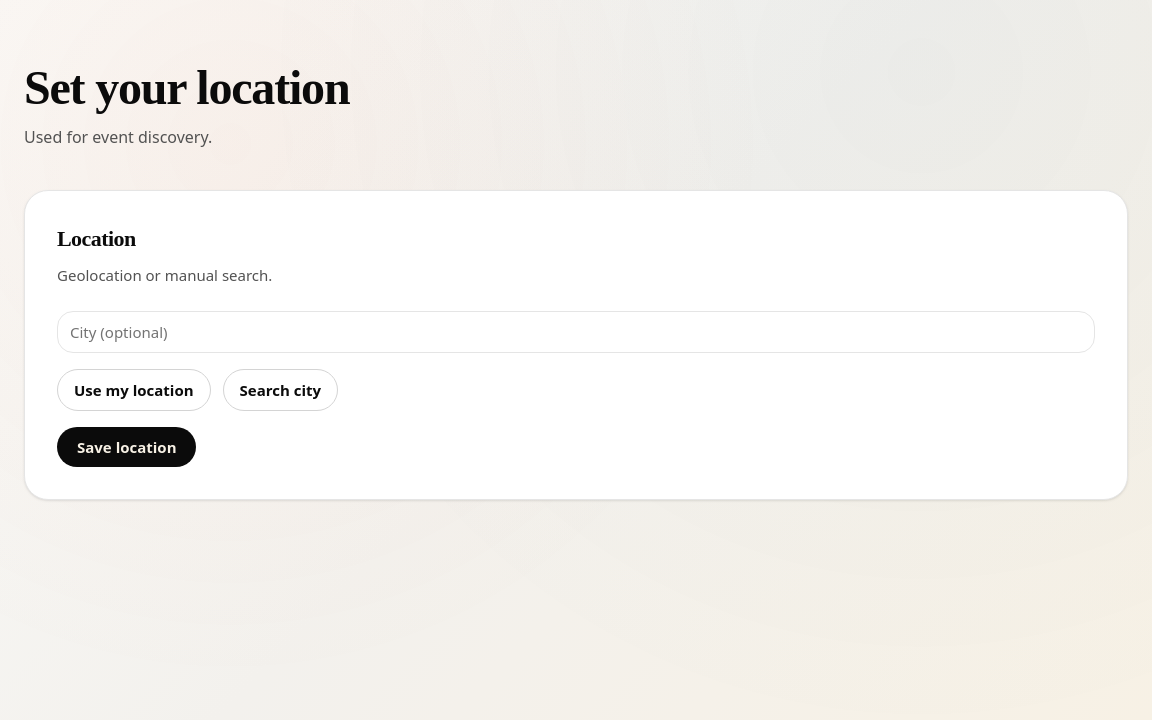
Test case: LocationOnboardingPage — geolocation and search branches › searches a typed city and rejects an empty search
The width and height of the screenshot is (1152, 720).
Click the button "Search city" at [280, 390], box left=223, top=369, right=338, bottom=411
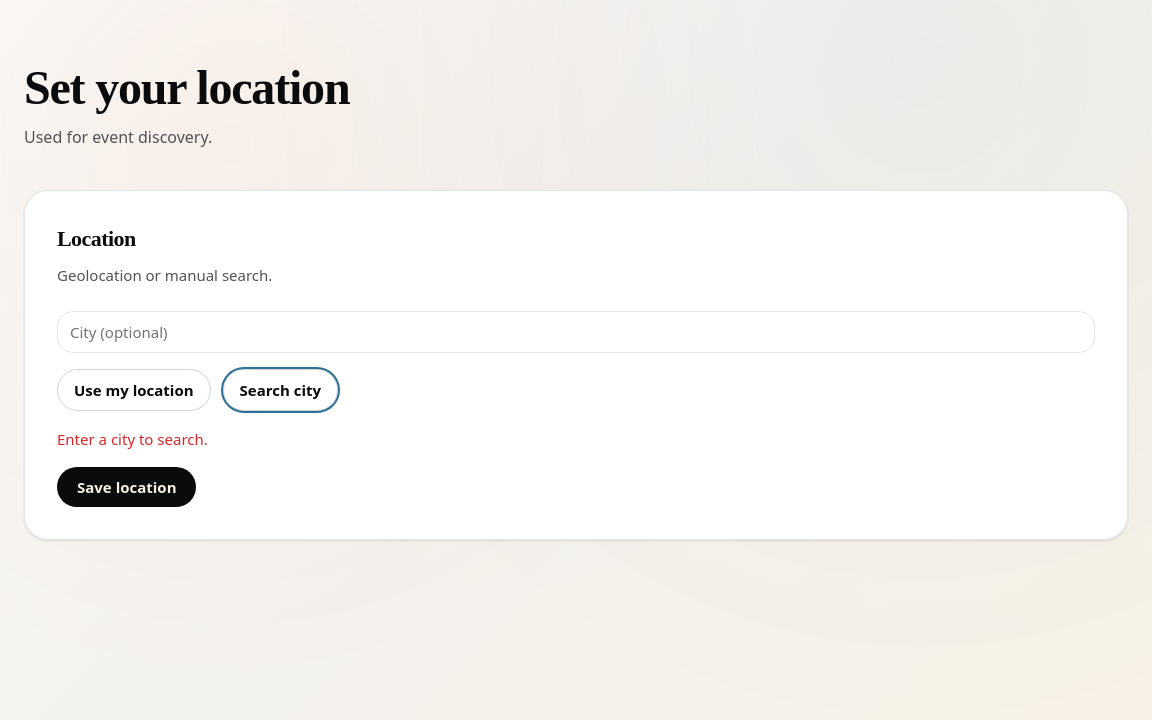
Expected: the text "Enter a city to search." is shown, left=57, top=429, right=208, bottom=449
Type "Pune" into the field with placeholder "City (optional)" at [576, 332], box left=57, top=311, right=1095, bottom=353
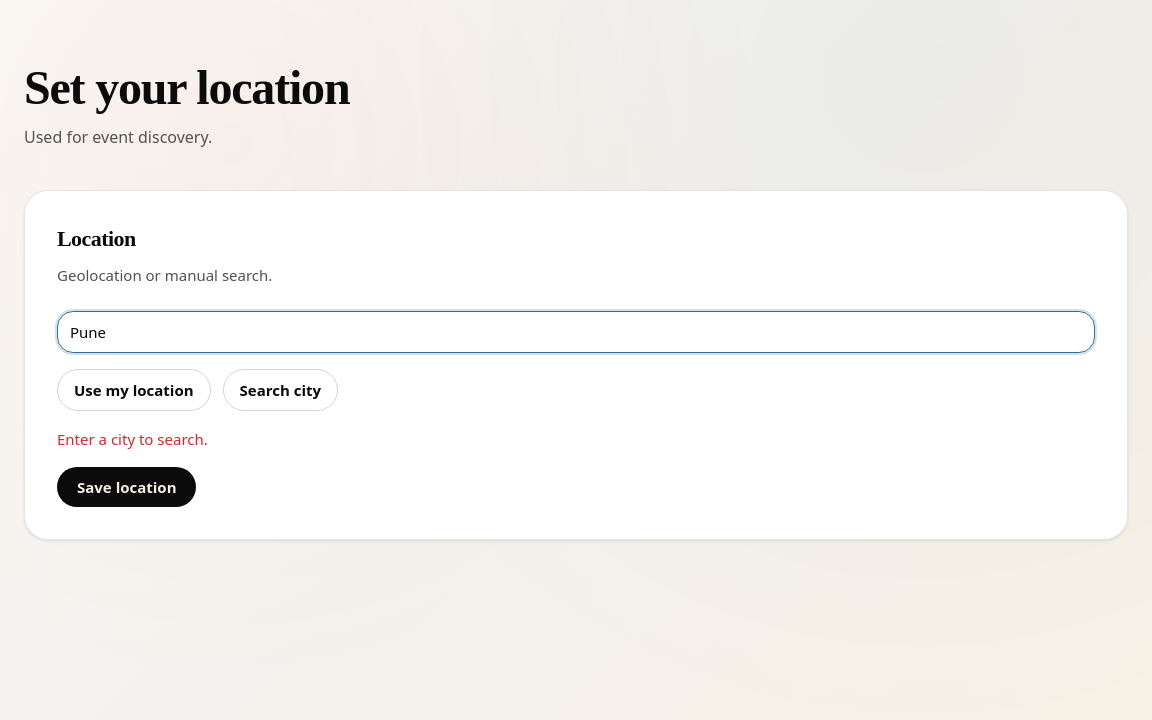
Click the button "Search city" at [280, 390], box left=223, top=369, right=338, bottom=411
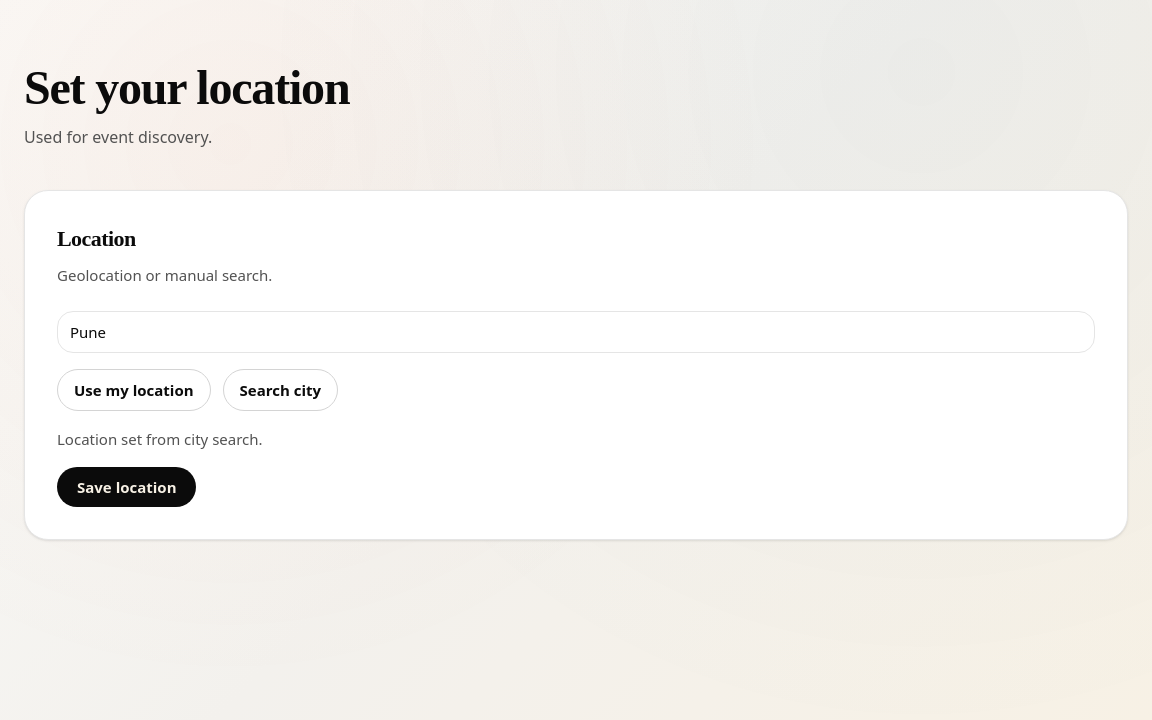
Expected: the text "Location set from city search." is shown, left=57, top=429, right=263, bottom=449
